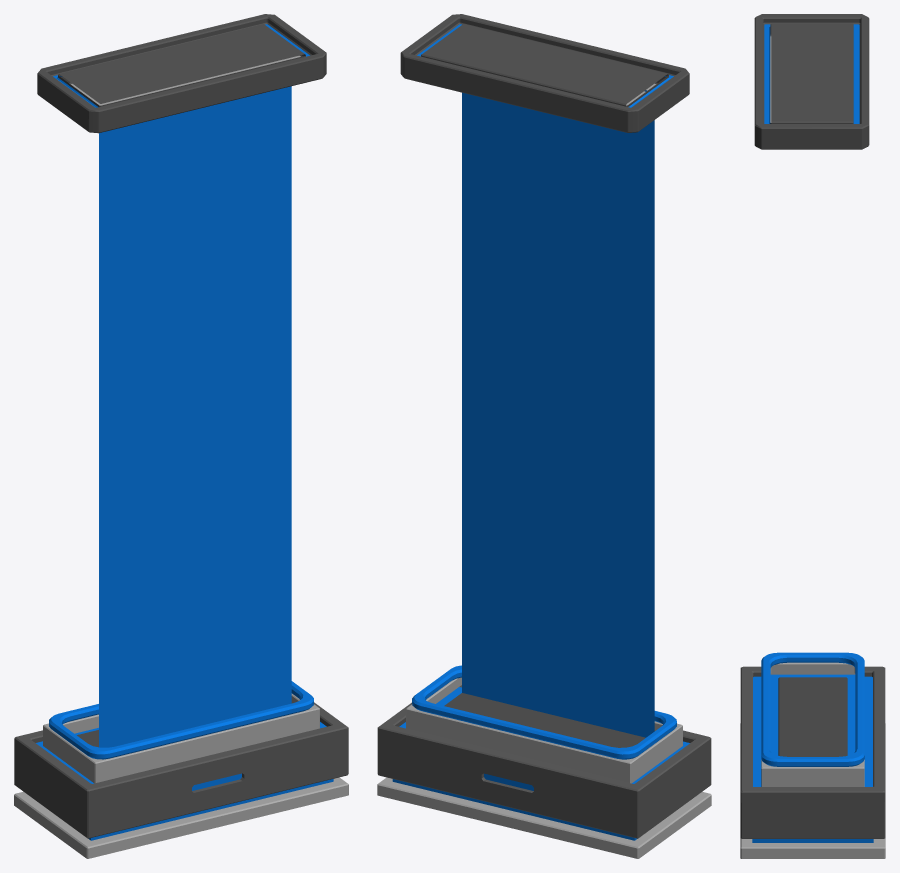
File: Tetris_BlockPlatformB.fbx
3 views of the same model, side by side, from view 1: azimuth 30°, elevation 25°; view 2: azimuth 150°, elevation 25°; view 3: azimuth 270°, elevation 25° (orthographic).
Parts seen in each view (by area): view 1: Tetris_BlockPlatformB; view 2: Tetris_BlockPlatformB; view 3: Tetris_BlockPlatformB.
Part boxes in pixels (<box>): Tetris_BlockPlatformB: <box>14,14,348,858</box>; Tetris_BlockPlatformB: <box>377,14,711,858</box>; Tetris_BlockPlatformB: <box>740,14,885,858</box>.
Size of the model in its own units: 56.41 by 152 by 27.56.
